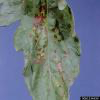Tomato leaf bacterial spot: (8, 1, 83, 99)
